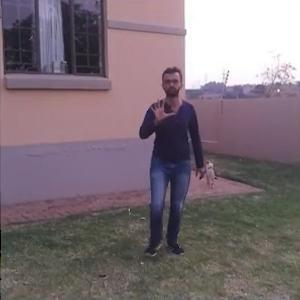follow_hand: (146, 90, 177, 125)
